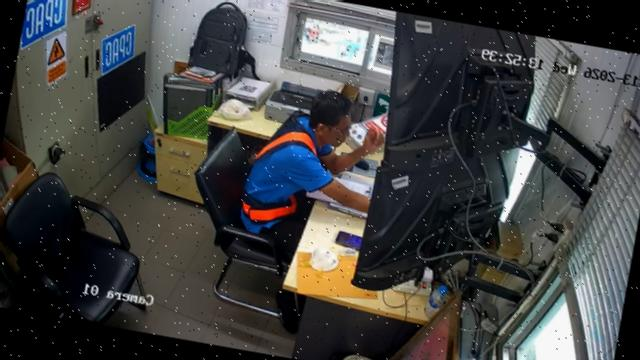Head: (308, 90, 352, 147)
People: (239, 90, 385, 258)
Phone: (333, 231, 362, 249)
